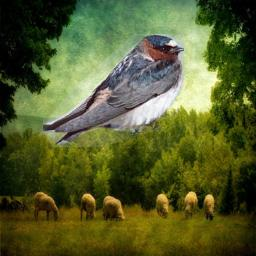Swallow: (43, 34, 184, 147)
